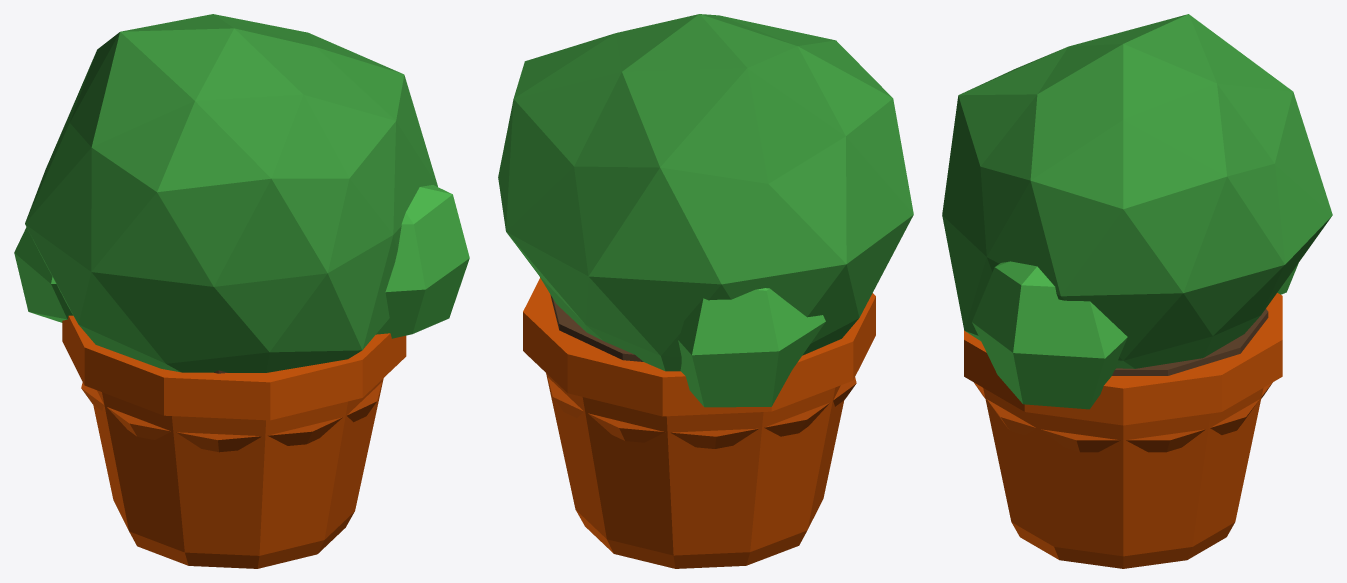
The model's file is pot.glb.
The picture shows the model from 3 angles, left to right: view 1: azimuth 30°, elevation 25°; view 2: azimuth 150°, elevation 25°; view 3: azimuth 270°, elevation 25°; orthographic projection. The views are drawn at different scales.
Parts seen in each view (by area): view 1: pot-m; view 2: pot-m; view 3: pot-m.
Part boxes in pixels (x1=…): pot-m: x1=14, y1=14, x2=469, y2=568; pot-m: x1=498, y1=14, x2=913, y2=568; pot-m: x1=942, y1=14, x2=1332, y2=568.
Size of the model in its own units: 0.9063 by 1.17 by 0.8624.
